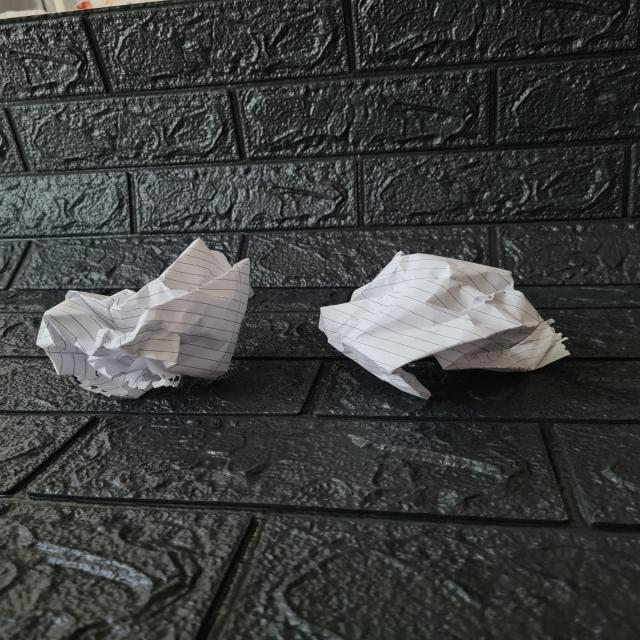Paper: (325, 247, 572, 399), (44, 244, 250, 390)
